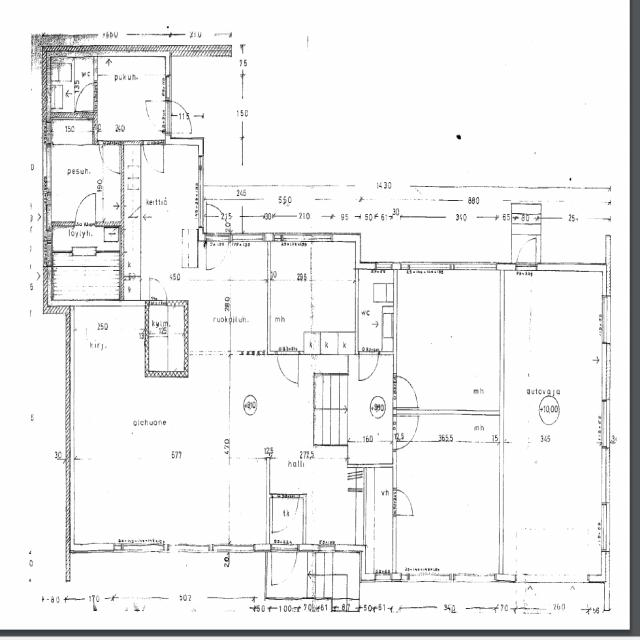door: (272, 544, 297, 588), (206, 199, 230, 242), (273, 494, 298, 535), (206, 234, 230, 276), (144, 101, 171, 132), (166, 101, 193, 132), (394, 417, 418, 448), (394, 376, 418, 407), (143, 140, 163, 176), (100, 140, 120, 174), (278, 350, 298, 384), (517, 235, 536, 270), (75, 193, 95, 226), (74, 83, 97, 111), (359, 350, 379, 382), (393, 490, 415, 516), (150, 276, 167, 306)
